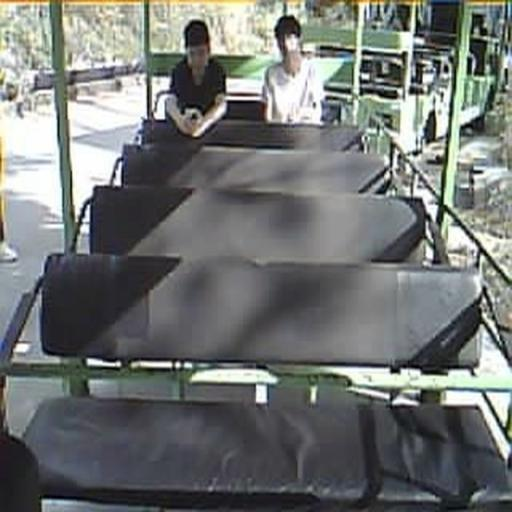persona: (260, 14, 330, 124), (164, 19, 228, 139)
